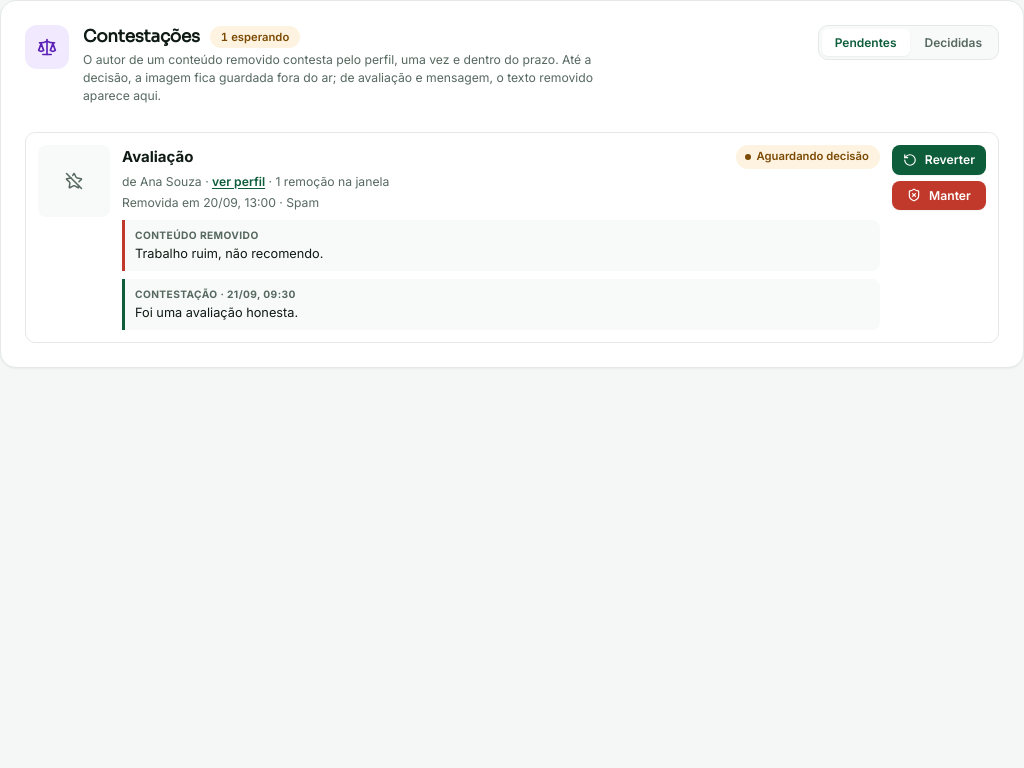
Test: AppealsSection: a decisão › reverter avaliação: decide pelo texto removido, e o aviso diz que o conteúdo voltou
expect the text "Avaliação" is shown: met, box [122, 146, 194, 168]
Click the button "Reverter" at (939, 160), box [892, 145, 986, 174]
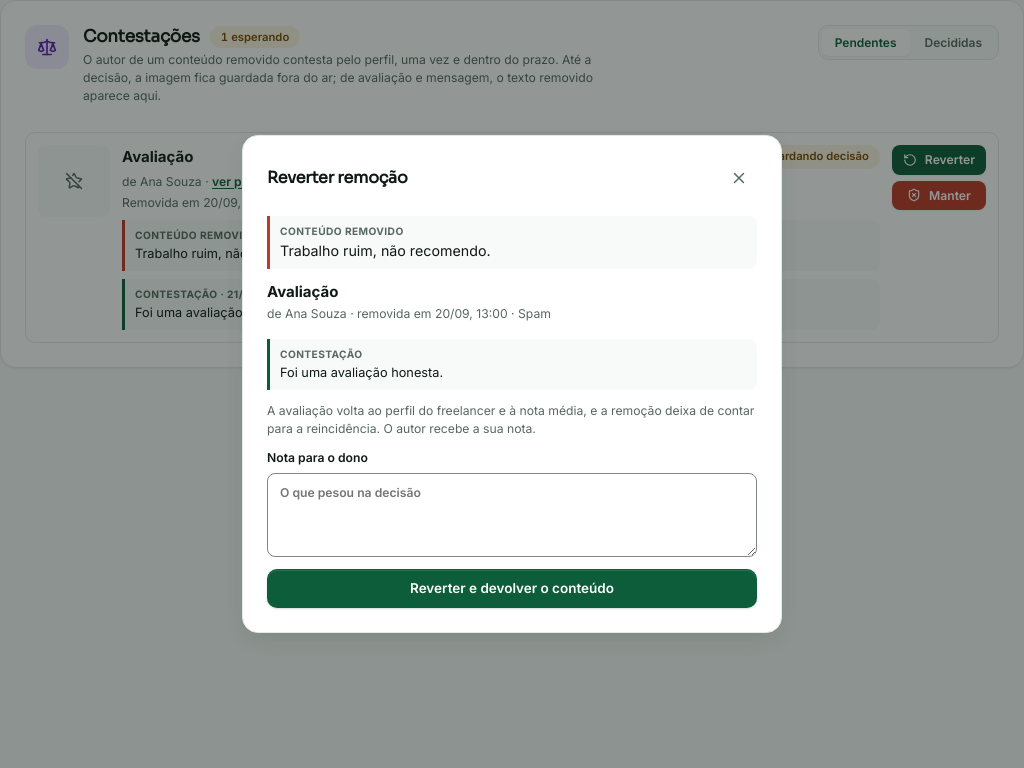
expect the text "Trabalho ruim, não recomendo." reads "Conteúdo removido Trabalho ruim, não recomendo.": met, box [267, 216, 757, 269]
expect the text "A avaliação volta ao perfil do freelancer e à nota média, e a remoção deixa de contar para a reincidência. O autor receb" is shown: met, box [267, 403, 754, 436]
Click the button "Reverter e devolver o conteúdo" at (512, 589), box [267, 569, 757, 608]
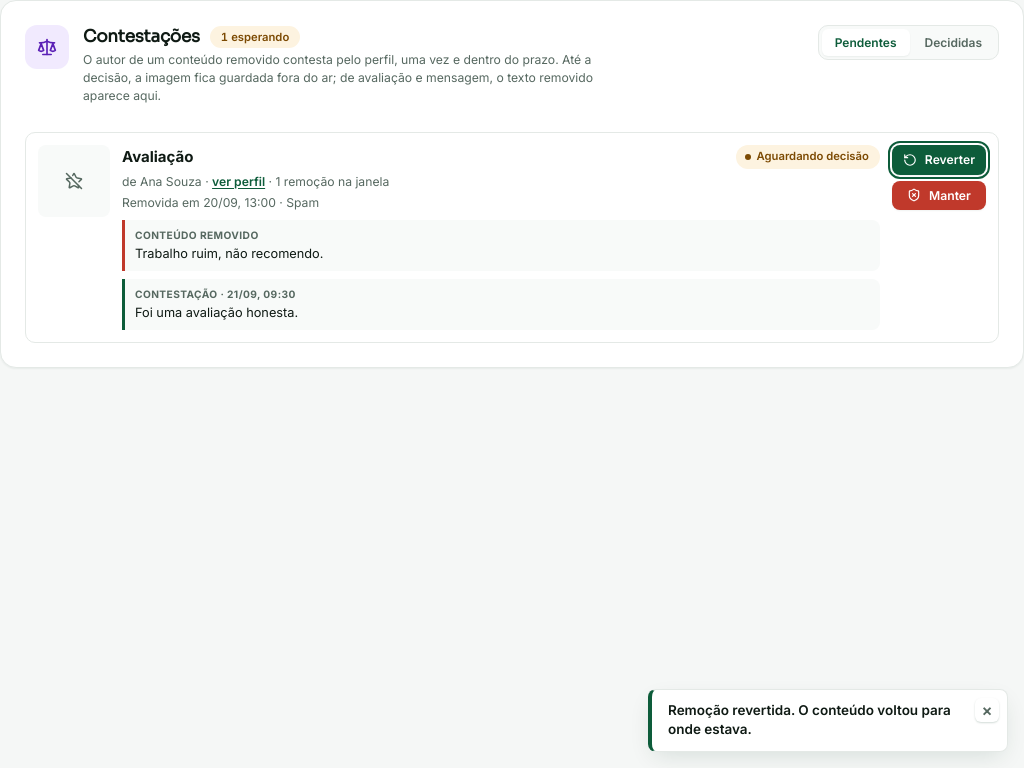
expect the text "Remoção revertida. O conteúdo voltou para onde estava." is shown: met, box [668, 701, 967, 740]
